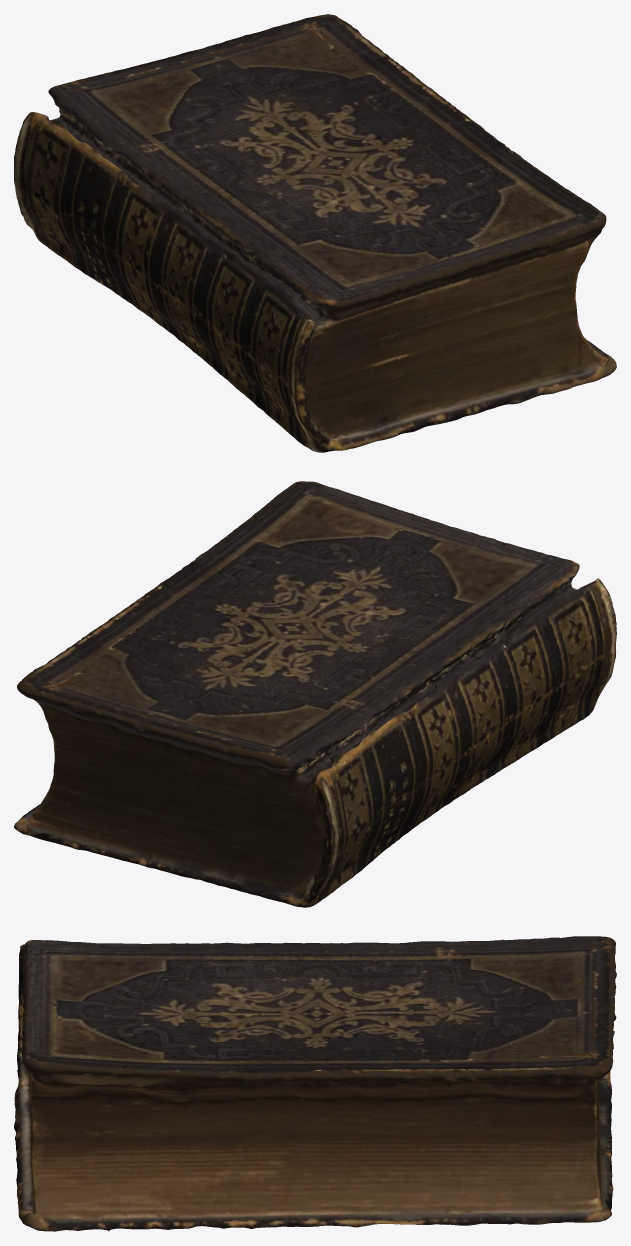
Rendered from compressed_book.glb.
3 views of the same model, one above another, from view 1: azimuth 30°, elevation 25°; view 2: azimuth 150°, elevation 25°; view 3: azimuth 270°, elevation 25° (orthographic). The views are drawn at different scales.
Visible parts, largest first — view 1: Object_2; view 2: Object_2; view 3: Object_2.
Boxes of the visible parts, <box> form: Object_2: <box>14,14,616,452</box>; Object_2: <box>14,481,616,907</box>; Object_2: <box>14,936,616,1231</box>.
Size of the model in its own units: 80.85 by 38.26 by 123.
Materials: 1 (1 with a texture image).
